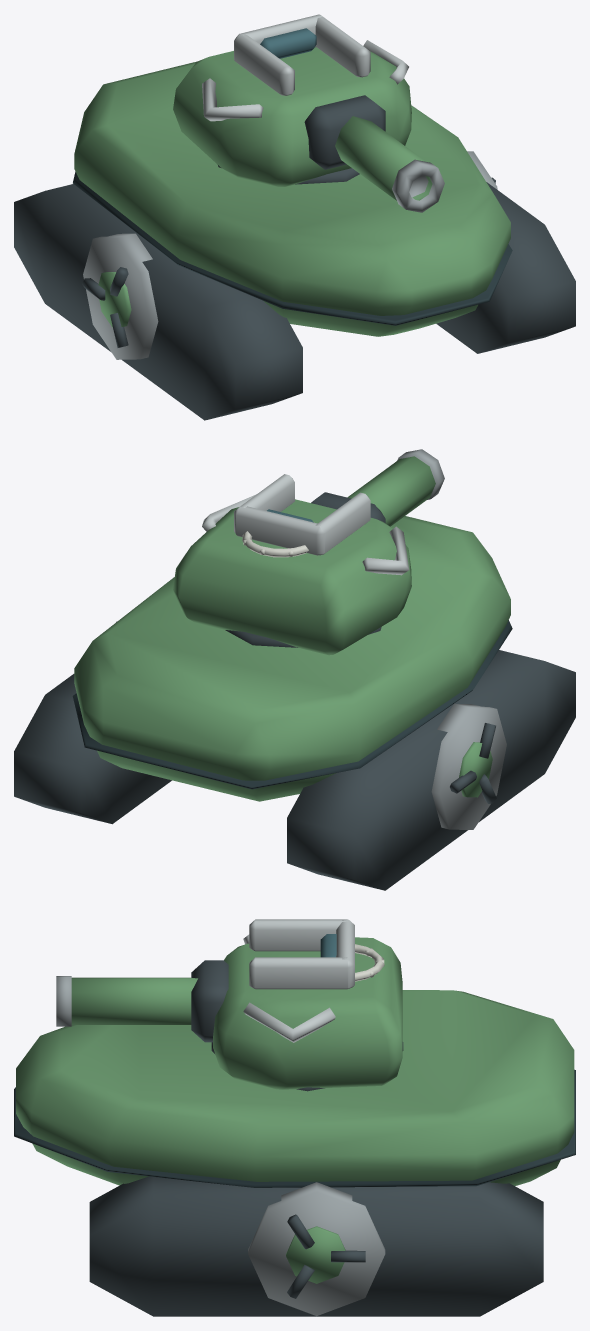
File: TOY_BANKER.far.glb
The picture shows the model from 3 angles, top to bottom: view 1: azimuth 30°, elevation 25°; view 2: azimuth 150°, elevation 25°; view 3: azimuth 270°, elevation 25°; orthographic projection. The views are drawn at different scales.
Visible parts, largest first — view 1: Body, TurretYaw, WheelLeft, BarrelRecoil; view 2: Body, TurretYaw, WheelLeft, BarrelRecoil; view 3: Body, TurretYaw, WheelRight, BarrelRecoil.
Boxes of the visible parts, left/top/right/bottom form: Body: left=14, top=61, right=575, bottom=420; TurretYaw: left=173, top=14, right=411, bottom=186; WheelLeft: left=82, top=233, right=158, bottom=359; BarrelRecoil: left=335, top=116, right=444, bottom=212; Body: left=14, top=516, right=575, bottom=890; TurretYaw: left=173, top=474, right=411, bottom=655; WheelLeft: left=431, top=703, right=506, bottom=829; BarrelRecoil: left=347, top=449, right=444, bottom=526; Body: left=14, top=990, right=575, bottom=1316; TurretYaw: left=191, top=919, right=403, bottom=1091; WheelRight: left=248, top=1182, right=385, bottom=1316; BarrelRecoil: left=56, top=976, right=197, bottom=1026.
Bounding box in the file's own units: 0.7288 × 0.525 × 0.916.
